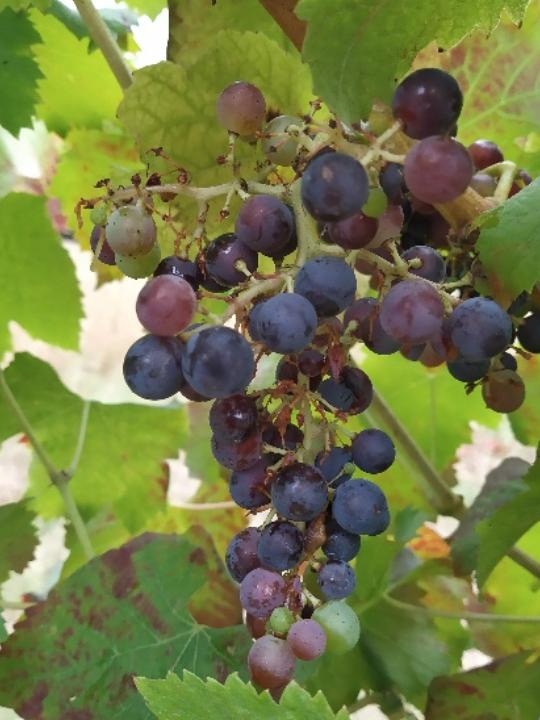grape: (73, 66, 540, 690)
